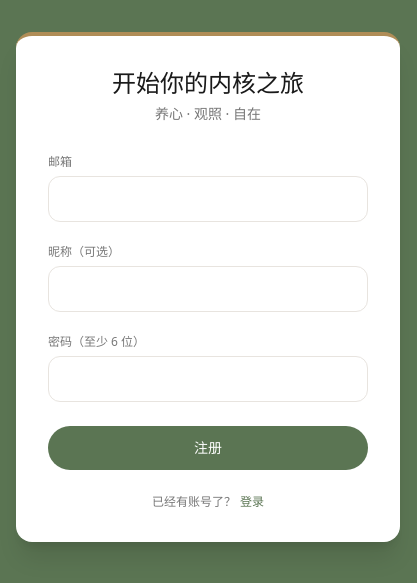
Scenario: RegisterPage › shows the backend error message when the email is already registered
Step 1. Type "seeker@neihe.app" into the field labelled "邮箱" → point(208, 199), box [48,176,368,222]
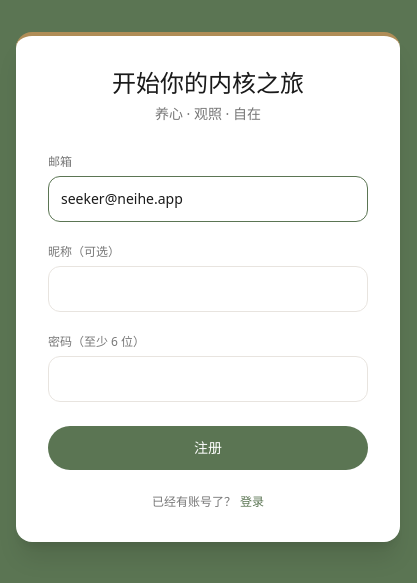
Step 2. Type "password123" into the password field labelled "密码（至少 6 位）" → point(208, 379), box [48,356,368,402]
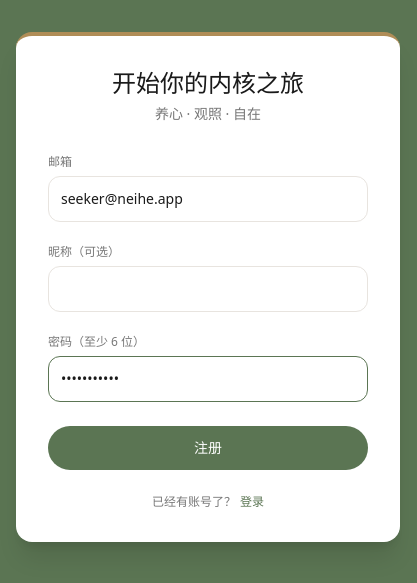
Step 3. Click the button "注册" → point(208, 448), box [48,426,368,470]
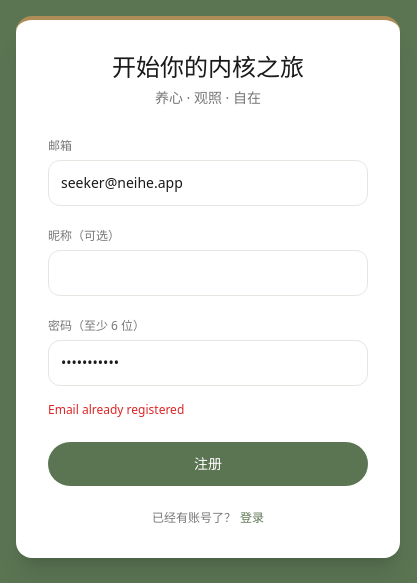
Expected: the text "Email already registered" is shown, [48,401,184,418]
